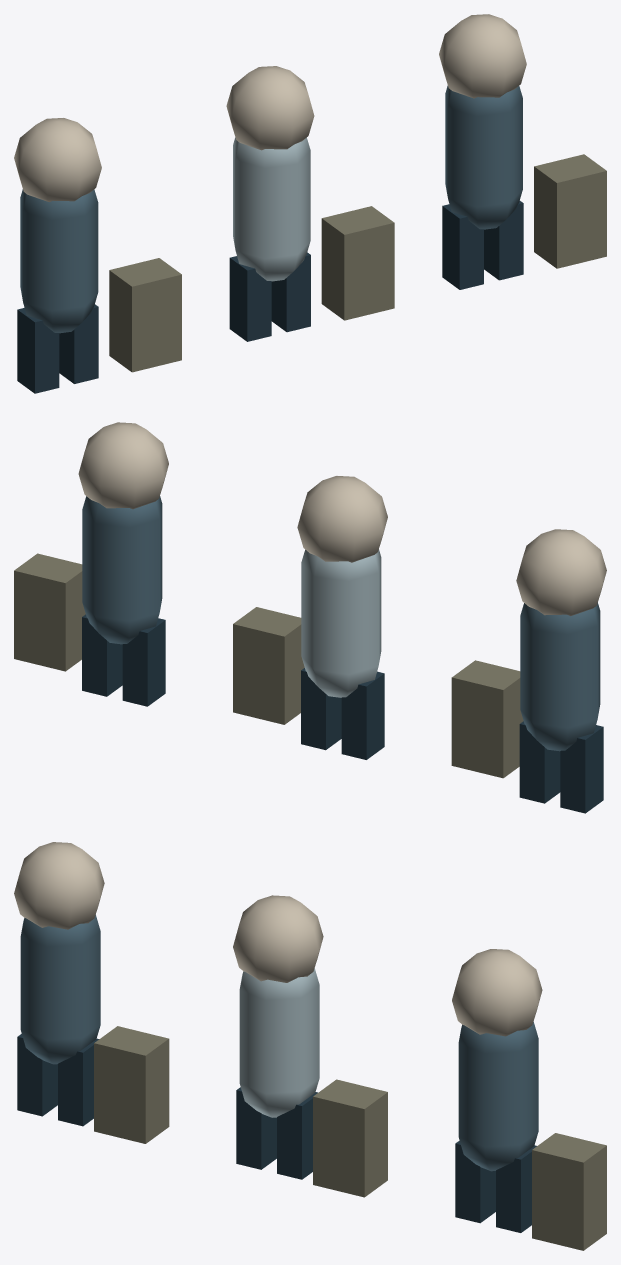
Rendered from passengers-3.glb.
The picture shows the model from 3 angles, top to bottom: view 1: azimuth 30°, elevation 25°; view 2: azimuth 150°, elevation 25°; view 3: azimuth 330°, elevation 25°; orthographic projection. The views are drawn at different scales.
Parts seen in each view (by area): view 1: passengers-3; view 2: passengers-3; view 3: passengers-3.
Part boxes in pixels (x1,y1,x2,y2): passengers-3: (14, 14, 606, 393); passengers-3: (14, 422, 606, 813); passengers-3: (14, 842, 606, 1250).
Size of the model in its own units: 3.74 by 1.62 by 0.52.
